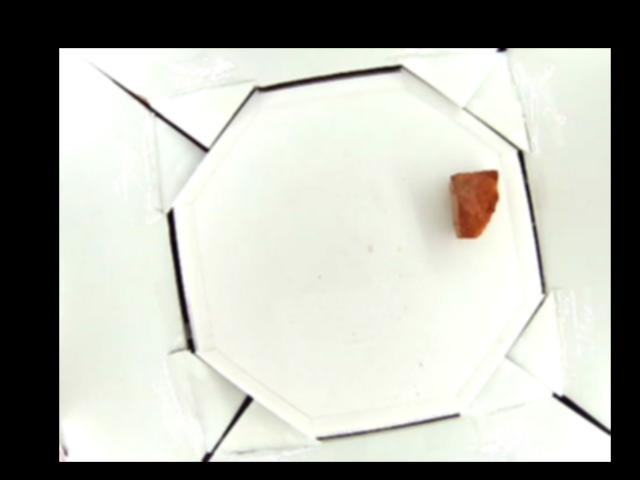Brisk: (447, 169, 501, 239)
